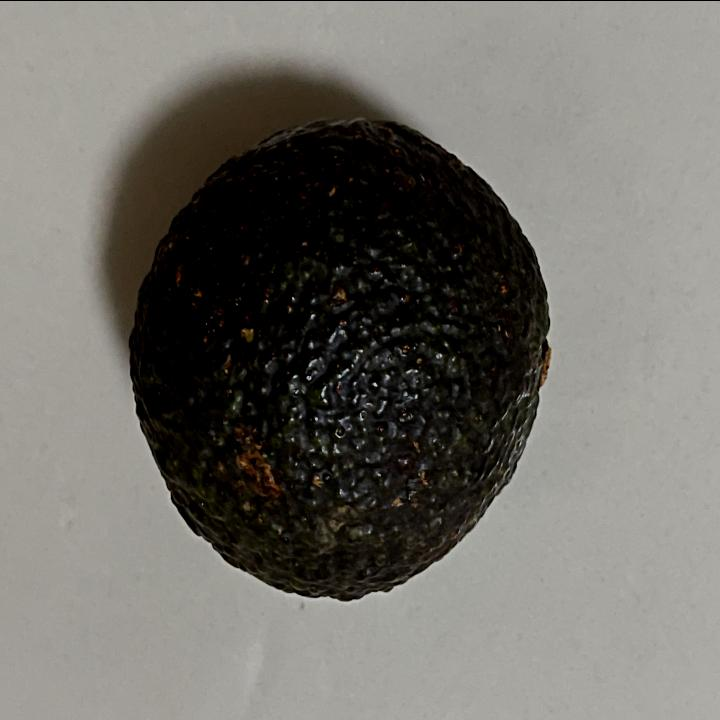Level1: (120, 98, 564, 618)
